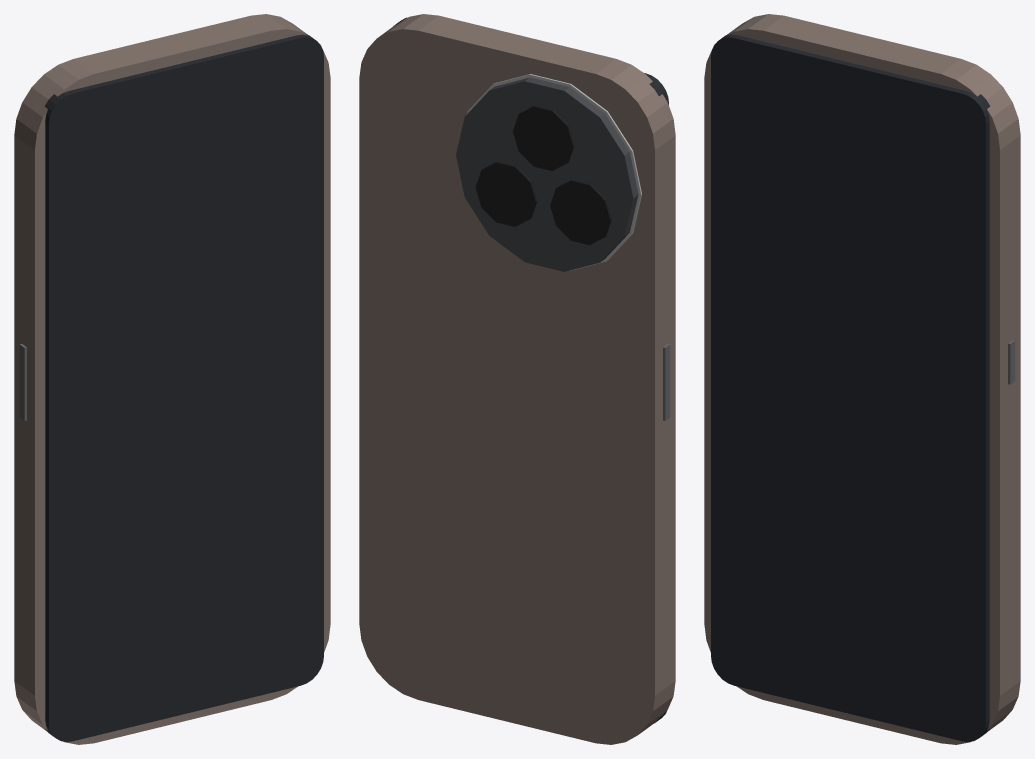
Rendered from 13_oppo_find_x7_ultra.glb.
3 views of the same model, side by side, from view 1: azimuth 30°, elevation 25°; view 2: azimuth 150°, elevation 25°; view 3: azimuth 330°, elevation 25° (orthographic).
Parts seen in each view (by area): view 1: geometry_1, geometry_0, geometry_3; view 2: geometry_0, geometry_5, geometry_7, geometry_9, geometry_11, geometry_6, geometry_3; view 3: geometry_1, geometry_0.
Part boxes in pixels (bbox=[...]): geometry_1: bbox=[44, 33, 323, 741]; geometry_0: bbox=[14, 14, 330, 744]; geometry_3: bbox=[19, 344, 26, 420]; geometry_0: bbox=[359, 14, 675, 744]; geometry_5: bbox=[456, 77, 638, 271]; geometry_7: bbox=[513, 105, 574, 170]; geometry_9: bbox=[550, 179, 611, 244]; geometry_11: bbox=[475, 161, 537, 226]; geometry_6: bbox=[467, 74, 641, 270]; geometry_3: bbox=[663, 344, 670, 420]; geometry_1: bbox=[711, 33, 990, 741]; geometry_0: bbox=[704, 14, 1020, 744].
Bounding box in the file's own units: 0.2475 × 0.5288 × 0.0459.
